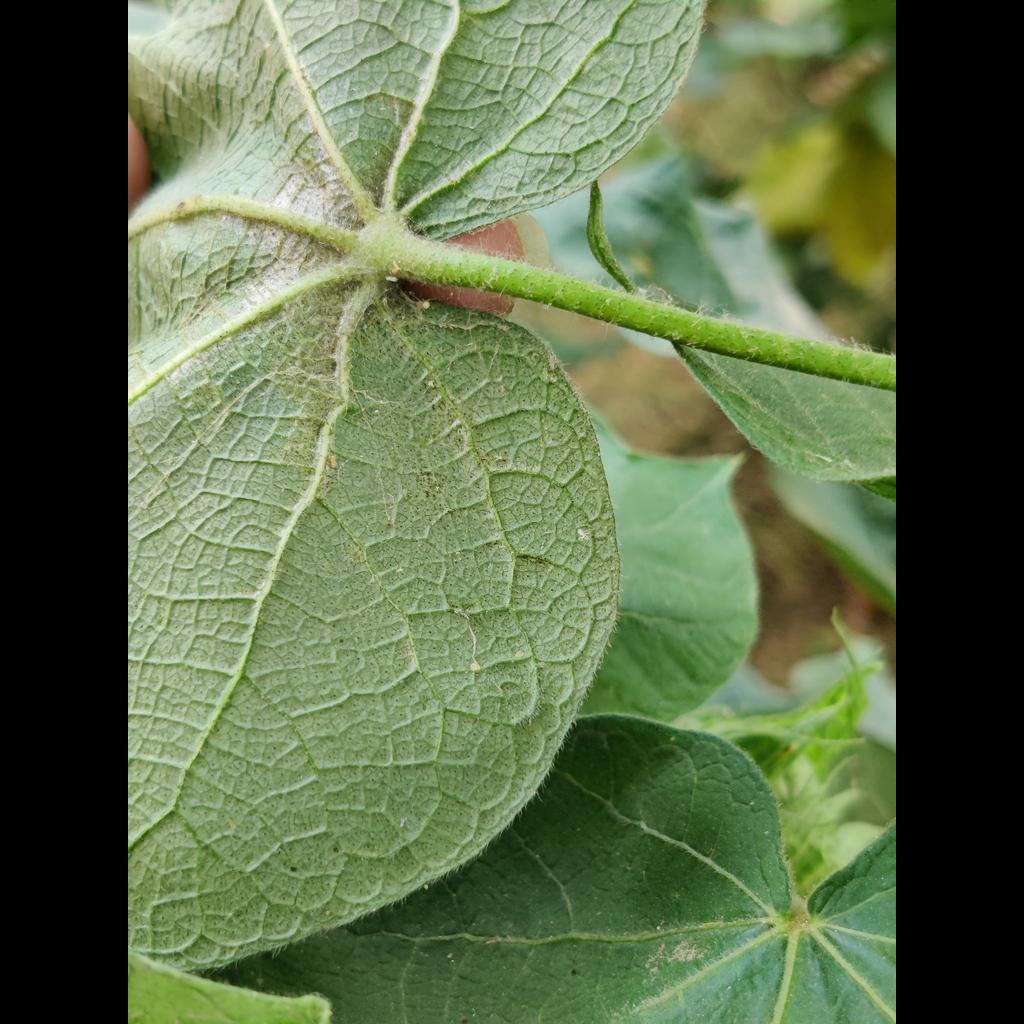adult: (575, 528, 591, 541)
nymph: (385, 275, 398, 283), (422, 300, 430, 310)
